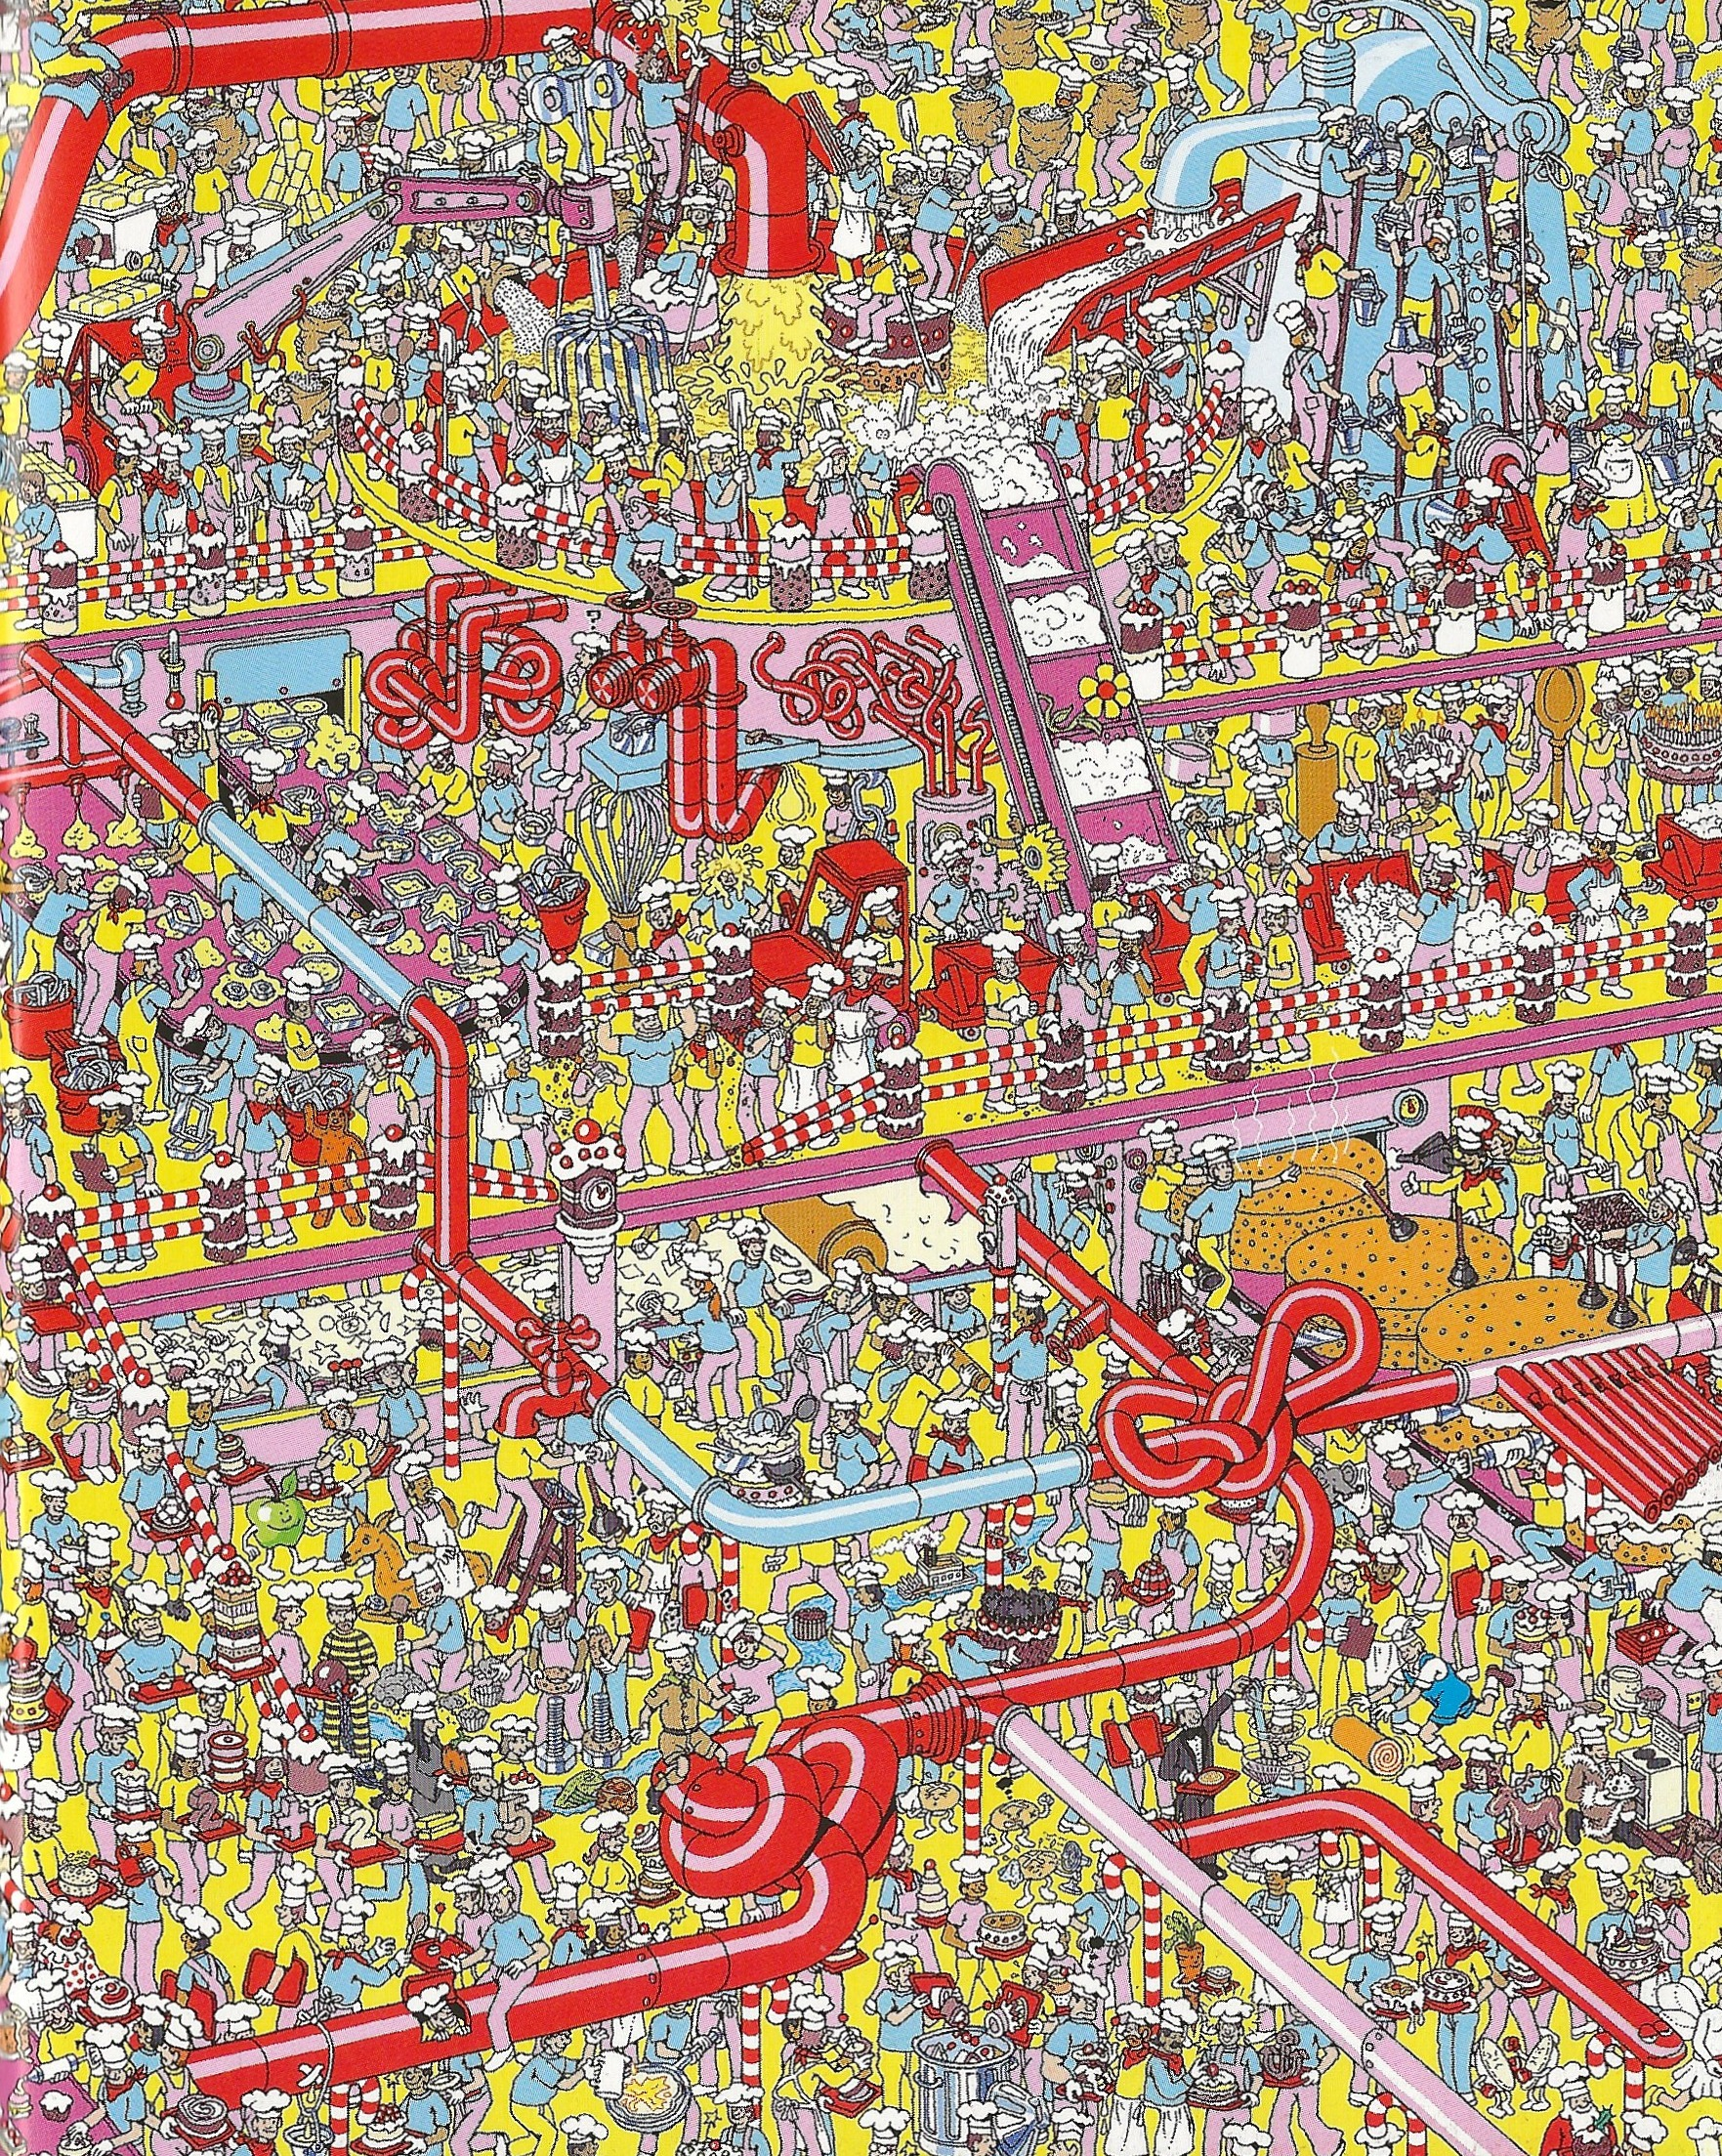Charlie: (355, 109, 381, 172)
Wenda: (369, 1010, 404, 1074)
